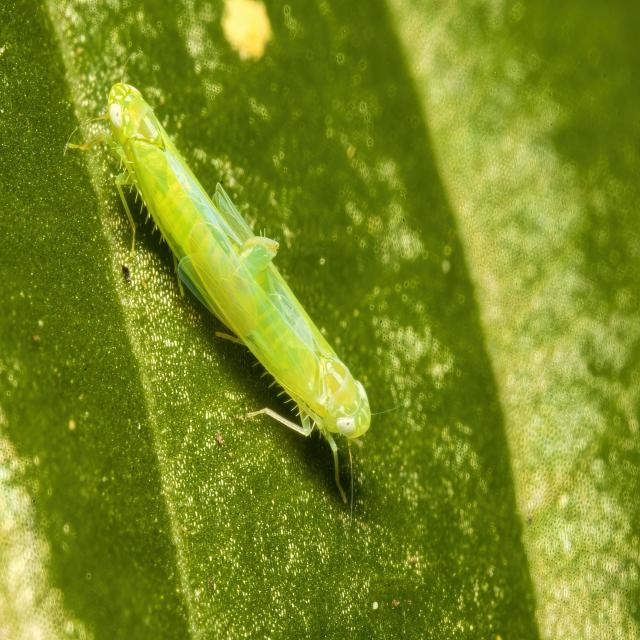Yechan: (178, 177, 379, 483), (79, 59, 246, 323)
